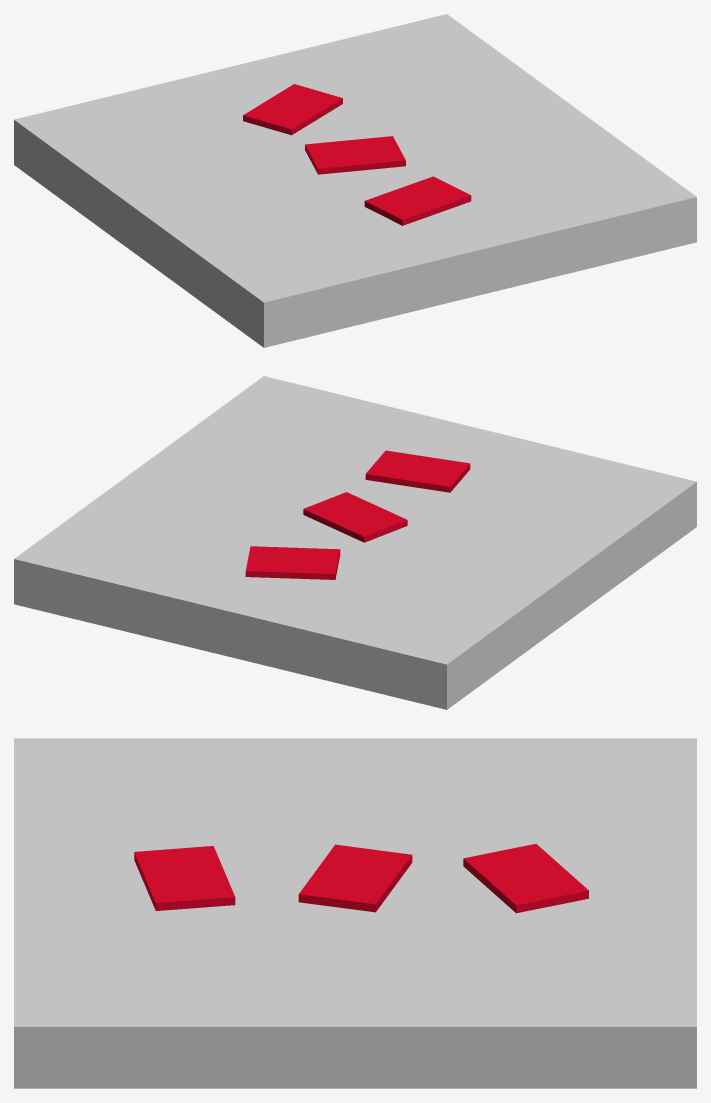
The picture shows the model from 3 angles, top to bottom: view 1: azimuth 30°, elevation 25°; view 2: azimuth 150°, elevation 25°; view 3: azimuth 270°, elevation 25°; orthographic projection. The views are drawn at different scales.
Visible parts, largest first — view 1: 큐브, 평면, 평면.001, 평면.002; view 2: 큐브, 평면, 평면.001, 평면.002; view 3: 큐브, 평면.002, 평면.001, 평면.
Boxes of the visible parts, x1,y1,x2,y2 form: 큐브: [14, 14, 696, 347]; 평면: [364, 176, 471, 225]; 평면.001: [305, 136, 405, 174]; 평면.002: [243, 84, 342, 135]; 큐브: [14, 376, 696, 709]; 평면: [365, 450, 470, 492]; 평면.001: [303, 492, 407, 542]; 평면.002: [245, 546, 340, 579]; 큐브: [14, 738, 696, 1088]; 평면.002: [463, 844, 588, 913]; 평면.001: [298, 844, 412, 912]; 평면: [134, 846, 235, 910].
Bounding box in the file's own units: 2000 × 226 × 2000.
